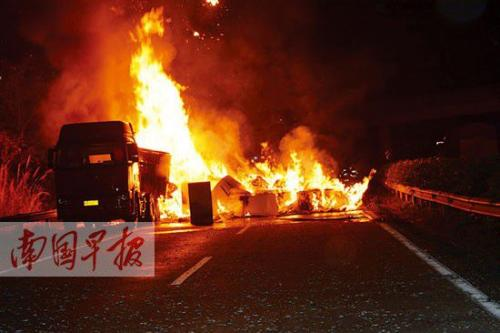fire: (131, 65, 375, 221)
smoke: (8, 9, 121, 121)
